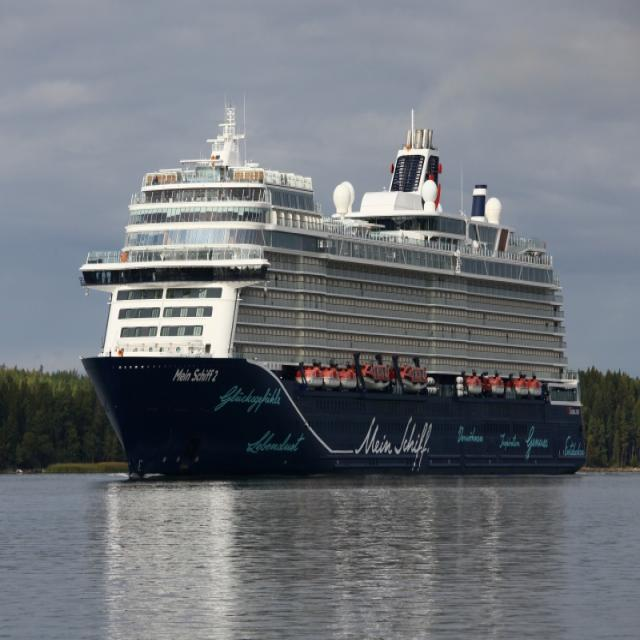cruises: (72, 106, 597, 480)
